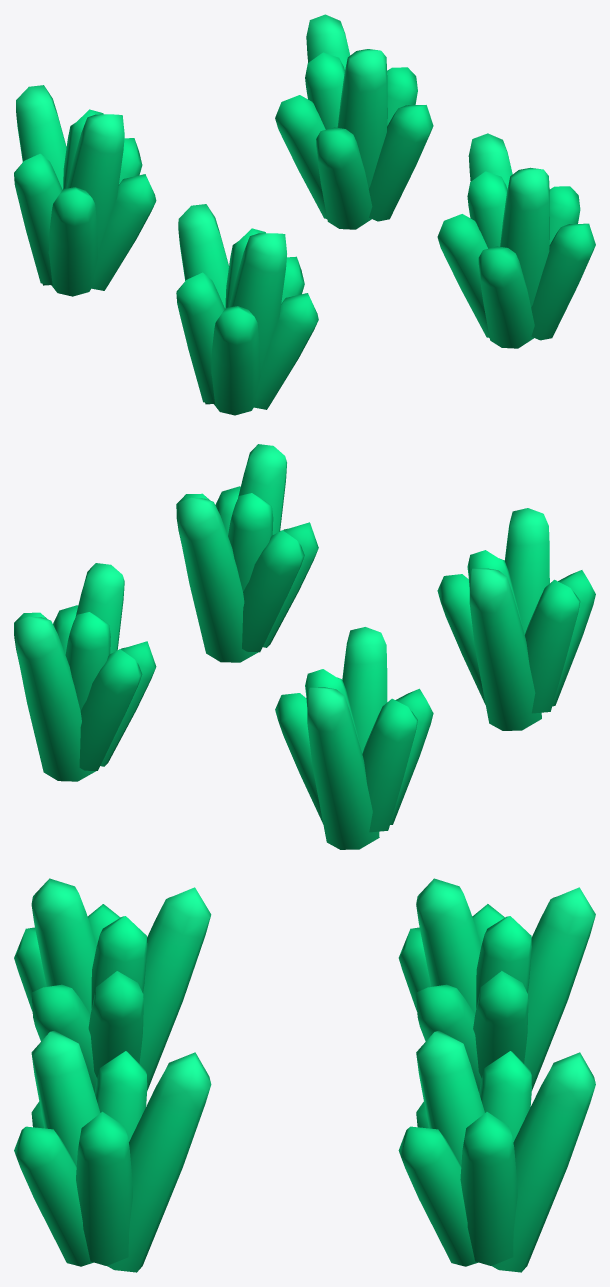
File: Farm_Crop_Beet_Step_01.fbx
The picture shows the model from 3 angles, top to bottom: view 1: azimuth 30°, elevation 25°; view 2: azimuth 150°, elevation 25°; view 3: azimuth 270°, elevation 25°; orthographic projection. The views are drawn at different scales.
Parts seen in each view (by area): view 1: Farm_Crop_Beet_Step_01; view 2: Farm_Crop_Beet_Step_01; view 3: Farm_Crop_Beet_Step_01.
Part boxes in pixels (<box>): Farm_Crop_Beet_Step_01: <box>14,14,595,415</box>; Farm_Crop_Beet_Step_01: <box>14,444,595,849</box>; Farm_Crop_Beet_Step_01: <box>14,878,595,1272</box>.
Size of the model in its own units: 143 by 64.88 by 151.
